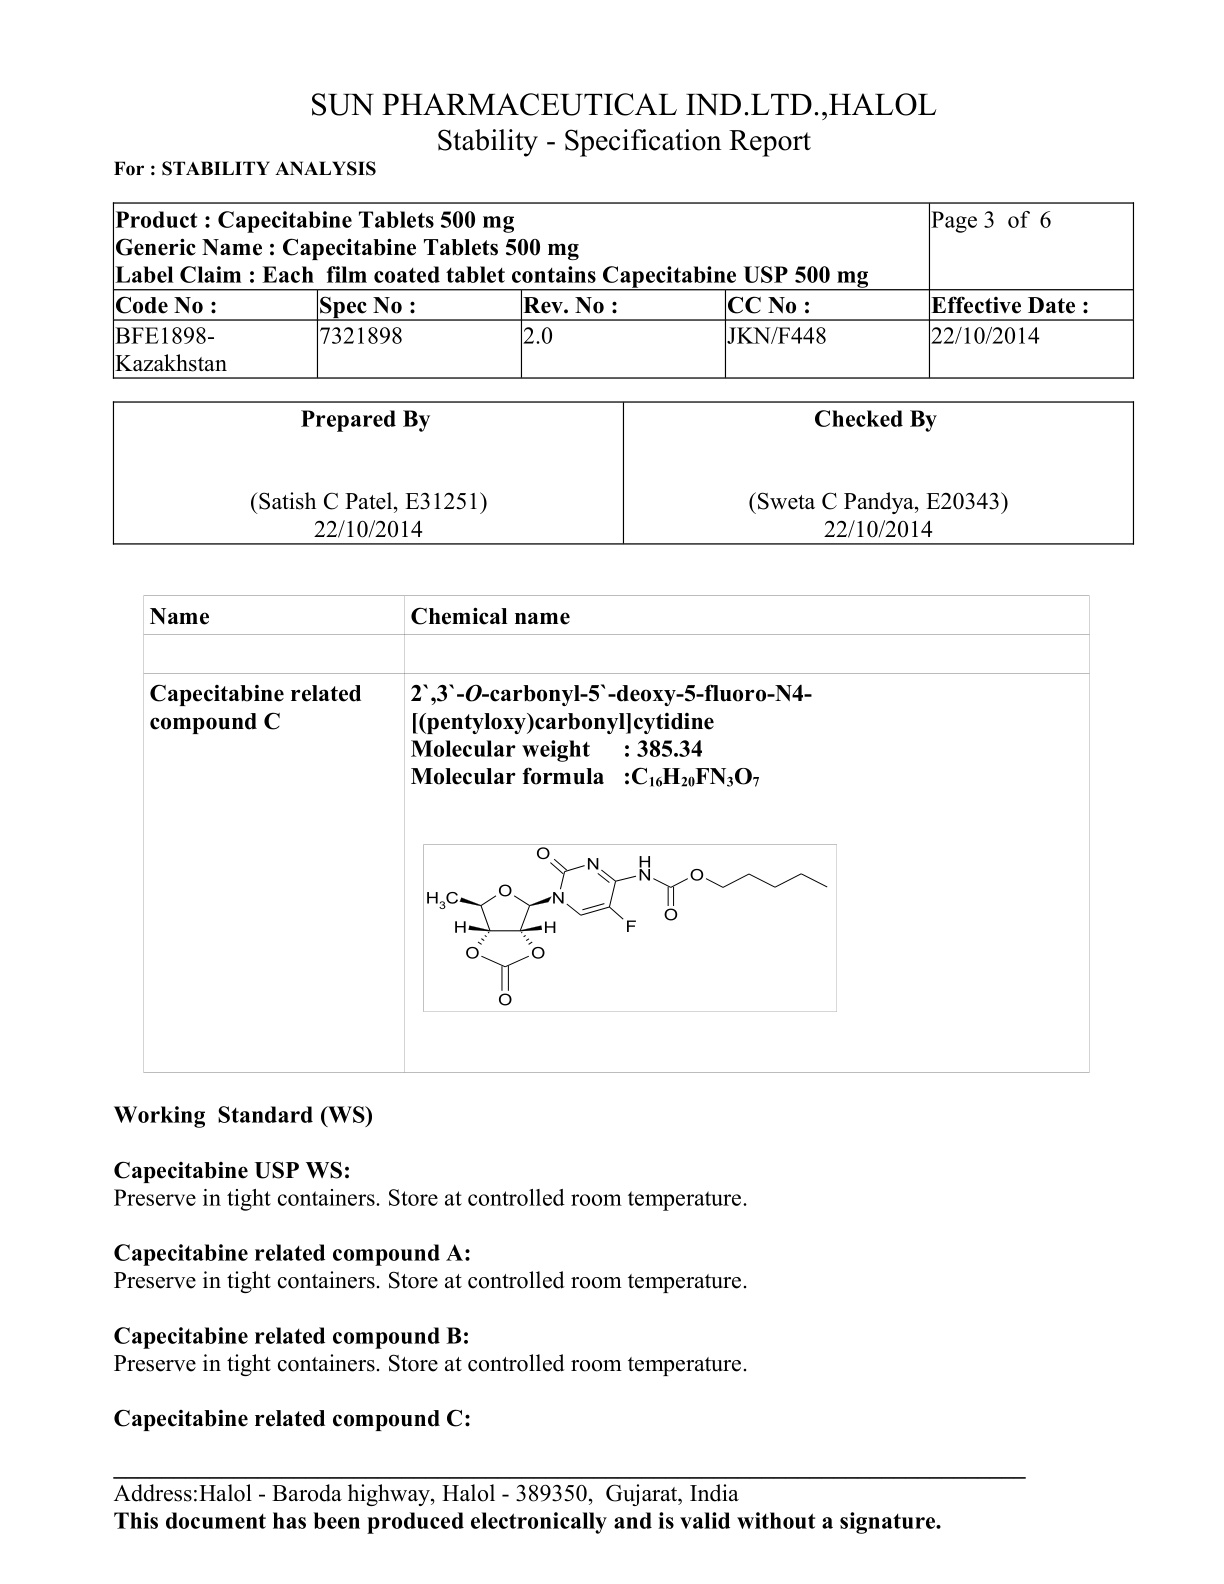full_lined: (141, 594, 1092, 1074), (111, 399, 1137, 546)
merged_cells: (112, 199, 1137, 381)
